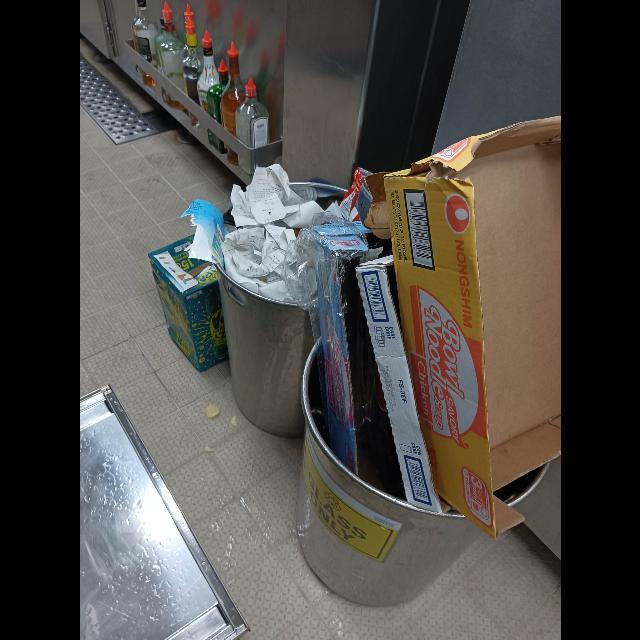glass: (235, 77, 269, 175), (154, 2, 185, 93), (220, 41, 245, 140), (180, 4, 203, 107), (196, 30, 219, 112), (131, 0, 157, 68), (206, 59, 228, 125), (207, 130, 226, 154), (166, 95, 185, 109), (226, 146, 238, 166), (140, 71, 155, 85)
paper: (383, 115, 561, 540), (355, 253, 445, 516), (147, 234, 228, 373), (220, 225, 300, 307), (229, 164, 323, 228), (179, 199, 226, 271)
